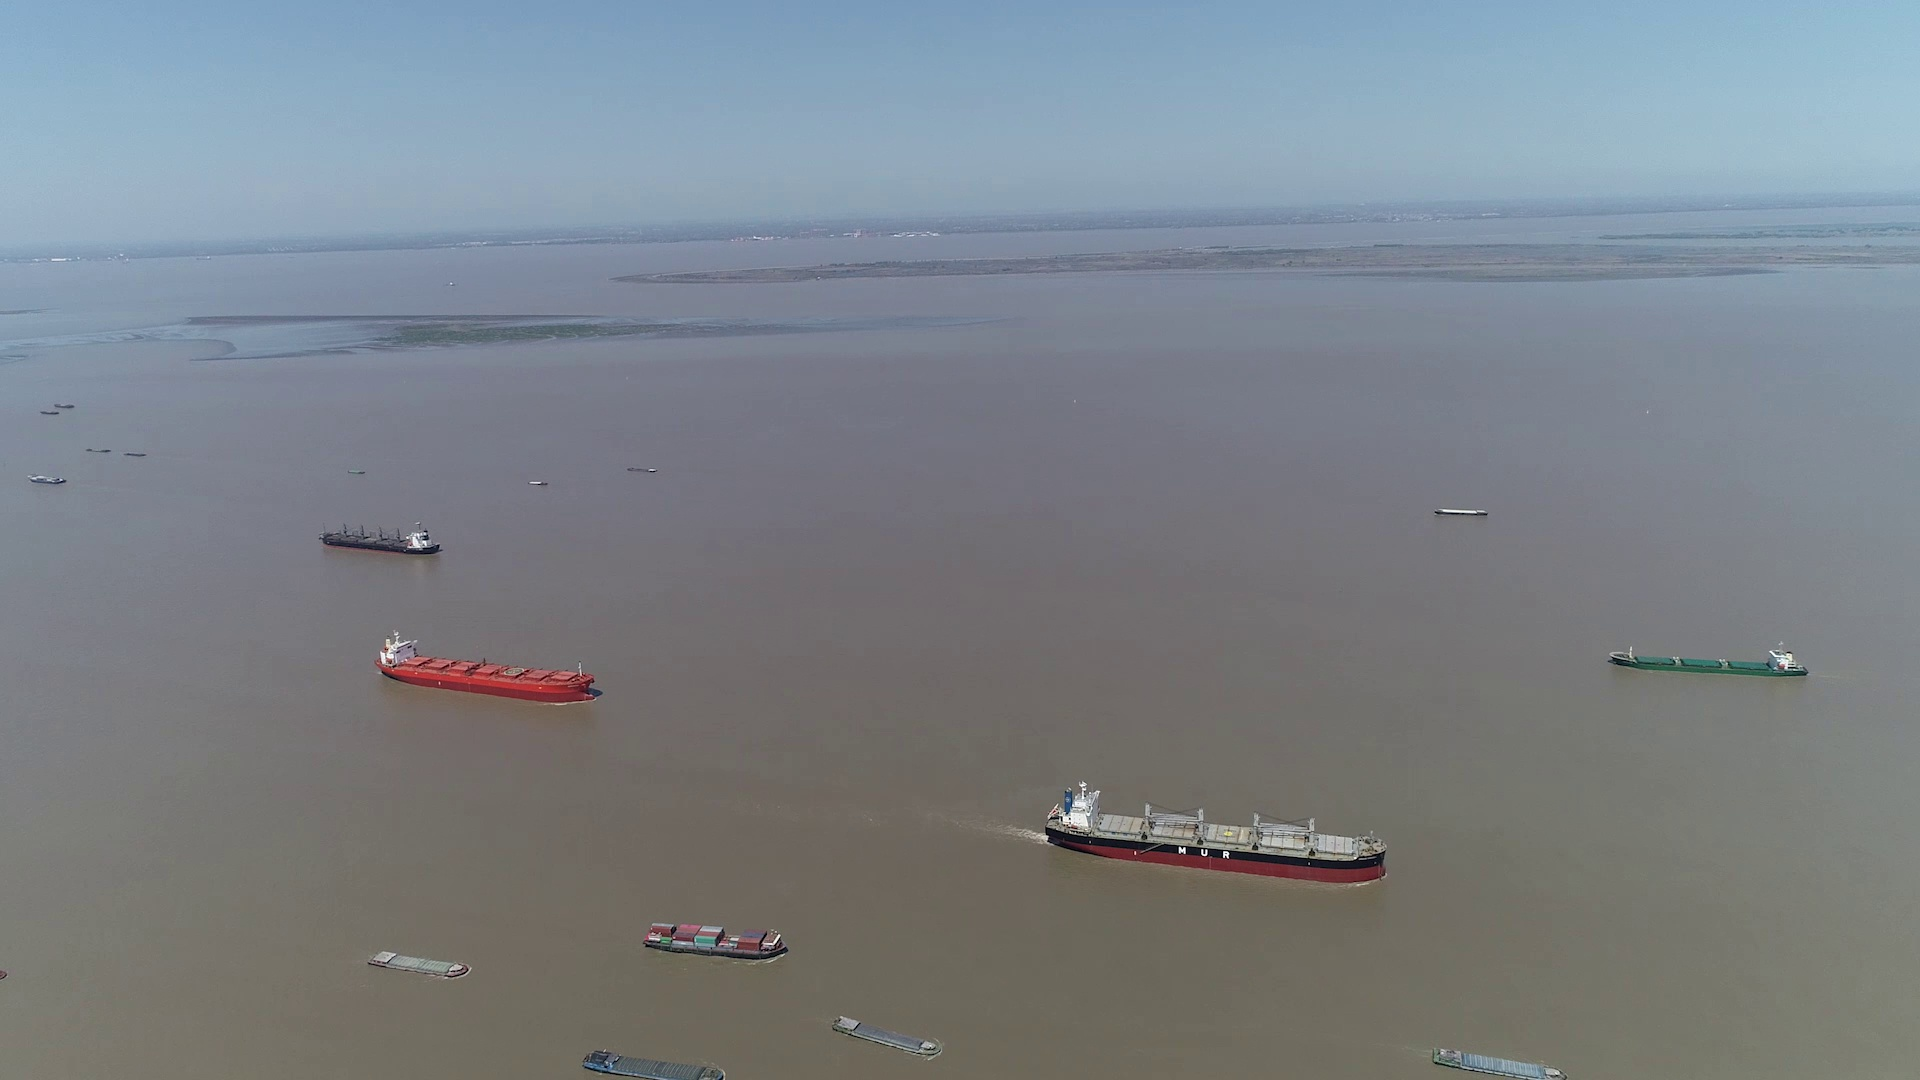ship: (1047, 783, 1386, 882), (373, 632, 596, 702), (628, 951, 787, 996), (1607, 644, 1809, 676), (641, 922, 789, 961), (832, 1015, 943, 1058), (582, 1048, 731, 1079), (1429, 1047, 1567, 1079), (319, 520, 438, 554), (368, 949, 468, 978), (1433, 506, 1489, 518), (26, 473, 69, 485)
